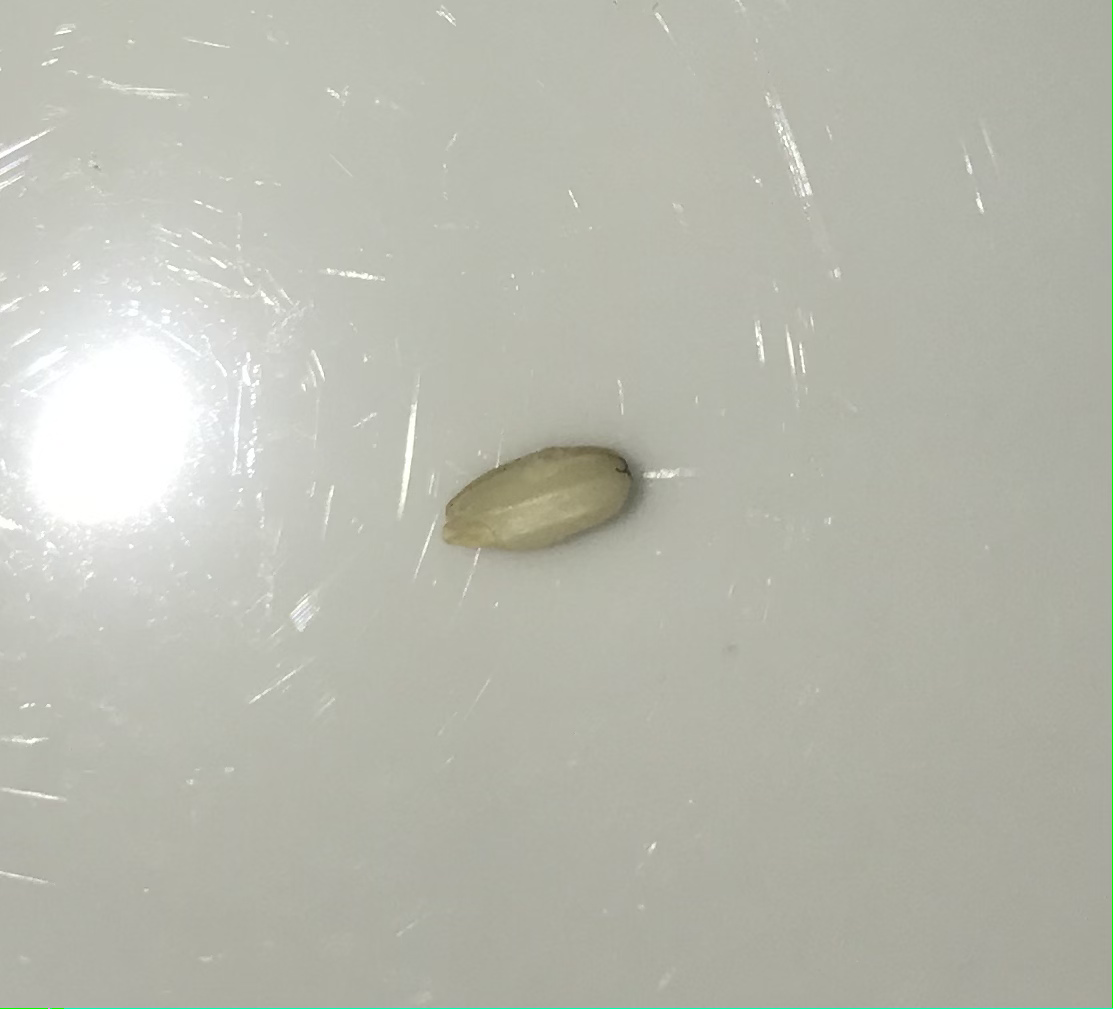Gao Lut Bac: (438, 441, 645, 573)
